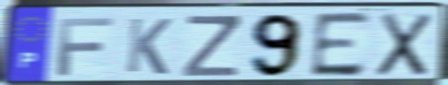9: (249, 12, 307, 79)
E: (308, 10, 373, 80)
F: (55, 16, 116, 78)
K: (123, 16, 174, 77)
X: (374, 11, 436, 78)
Z: (180, 14, 242, 79)
